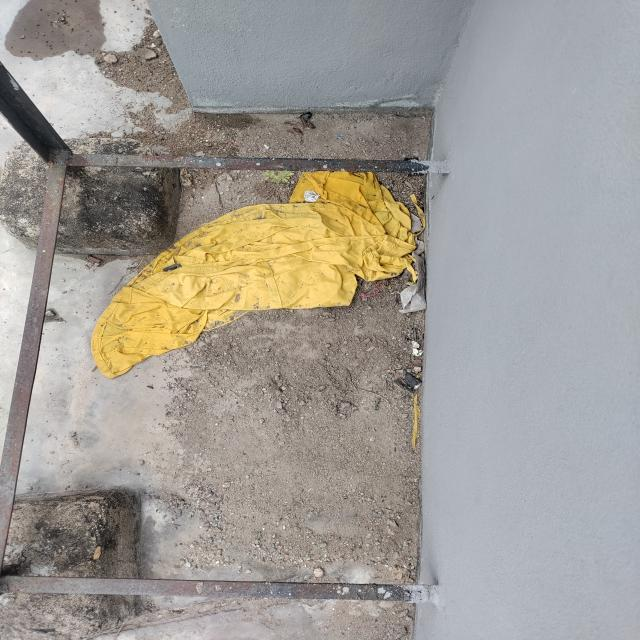metal: (297, 187, 327, 212)
paper: (395, 334, 430, 364)
